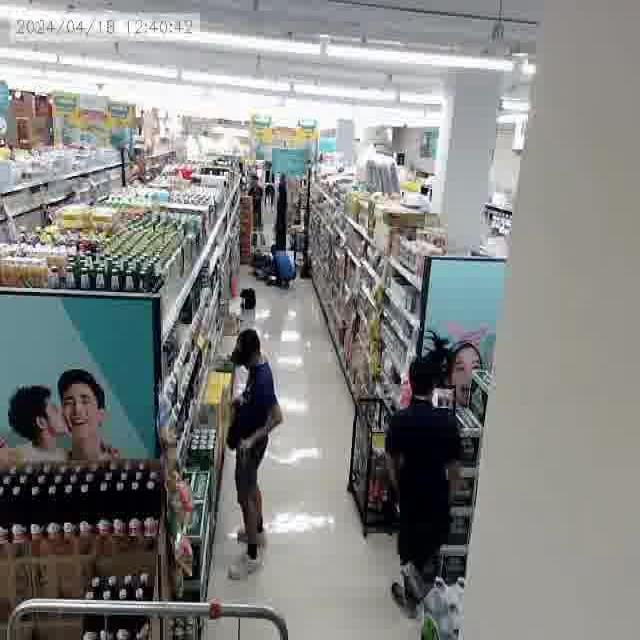shoplifting: (211, 321, 291, 595)
